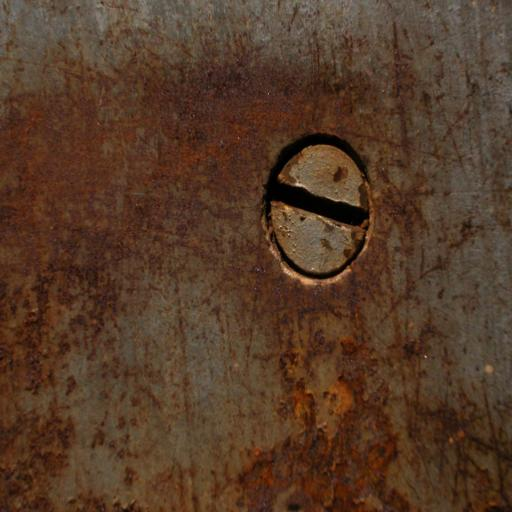Slotted: (263, 132, 373, 284)
